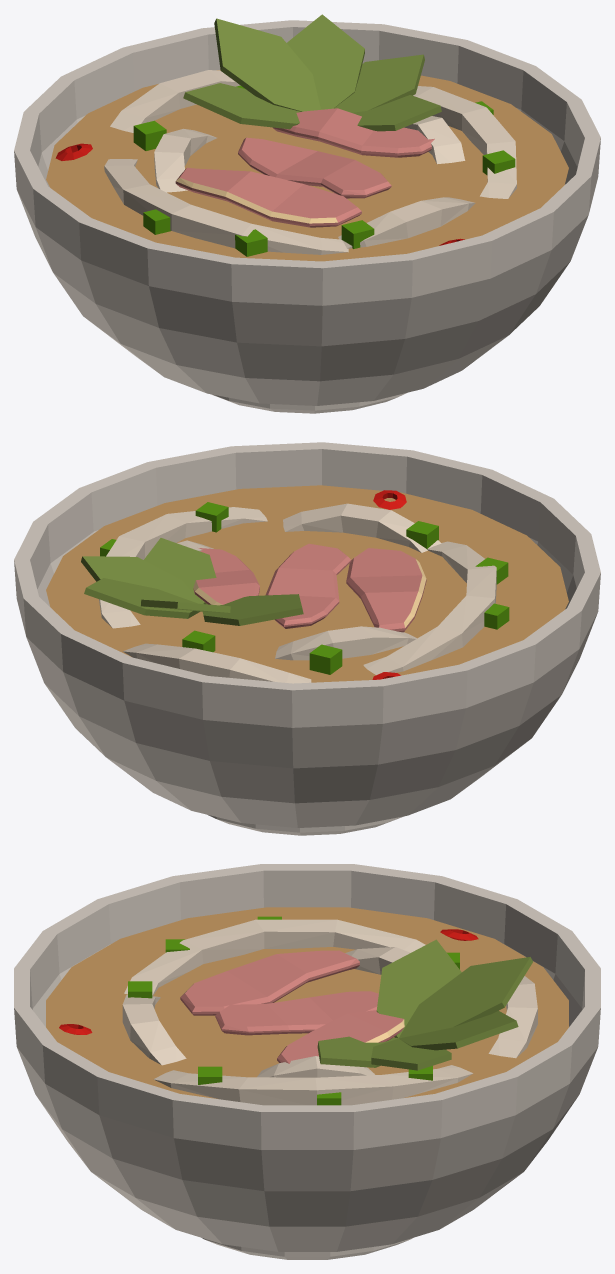
File: SM_Cook_PhoBowl_Full_01.obj
3 views of the same model, one above another, from view 1: azimuth 30°, elevation 25°; view 2: azimuth 150°, elevation 25°; view 3: azimuth 270°, elevation 25° (orthographic).
Visible parts, largest first — view 1: SM_Cook_PhoBowl_Full_01; view 2: SM_Cook_PhoBowl_Full_01; view 3: SM_Cook_PhoBowl_Full_01.
Part boxes in pixels (bbox=[...]): SM_Cook_PhoBowl_Full_01: bbox=[14, 14, 600, 413]; SM_Cook_PhoBowl_Full_01: bbox=[14, 442, 600, 835]; SM_Cook_PhoBowl_Full_01: bbox=[14, 864, 600, 1259].
Size of the model in its own units: 0.2173 by 0.1061 by 0.2173.
1 material, 1 textured.
